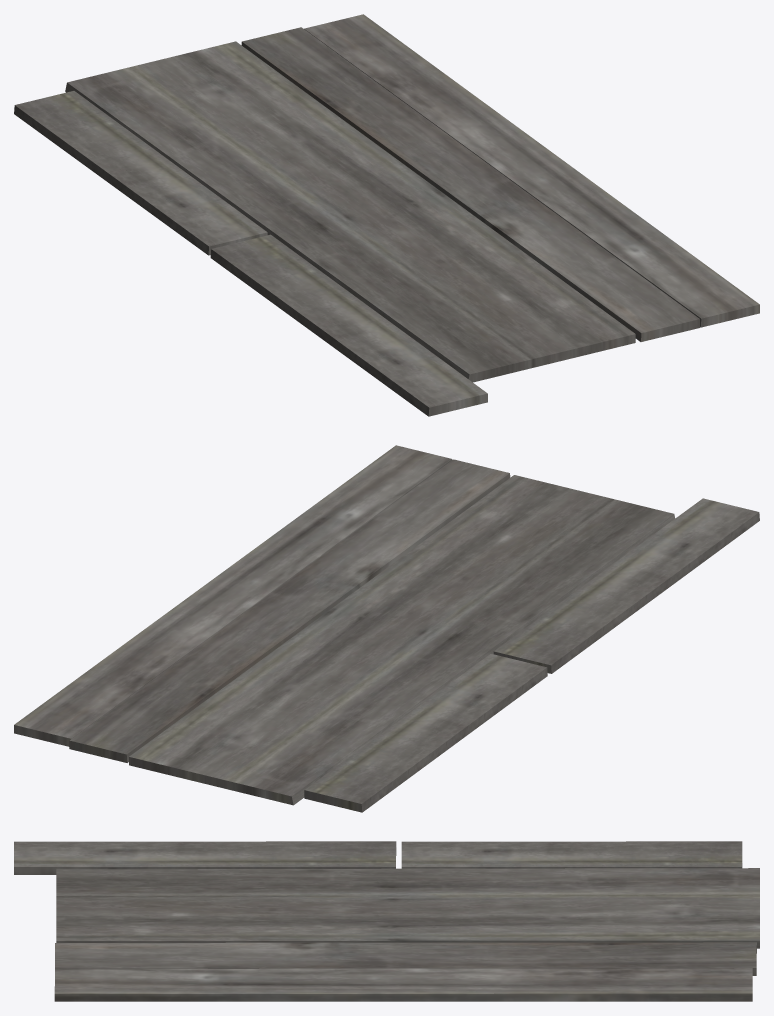
The model's file is jov_woodplate01c.fbx.
The picture shows the model from 3 angles, top to bottom: view 1: azimuth 30°, elevation 25°; view 2: azimuth 150°, elevation 25°; view 3: azimuth 270°, elevation 25°; orthographic projection. The views are drawn at different scales.
Visible parts, largest first — view 1: jov_woodplate01c; view 2: jov_woodplate01c; view 3: jov_woodplate01c.
Boxes of the visible parts, box(x1,y1,x2,y2) form: jov_woodplate01c: box(14, 14, 759, 416); jov_woodplate01c: box(14, 445, 759, 812); jov_woodplate01c: box(14, 841, 759, 1001).
Bounding box in the file's own units: 226 × 5.48 × 467.
